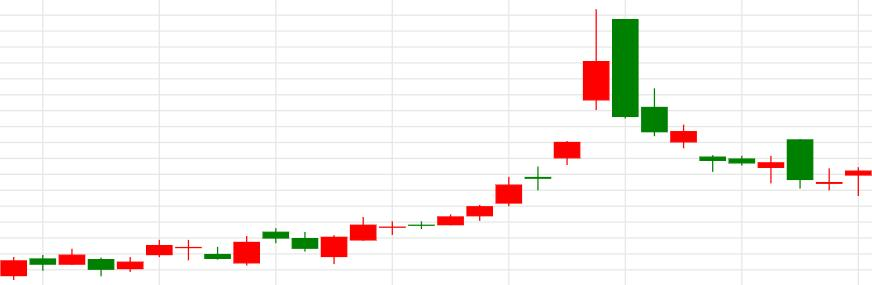shooting_star_fall: (320, 10, 611, 264)
